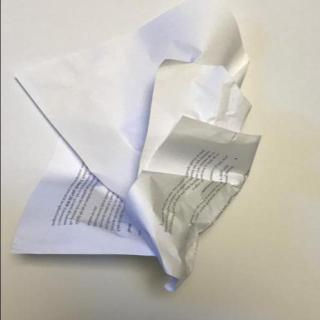Anorganik: (12, 2, 260, 290)
